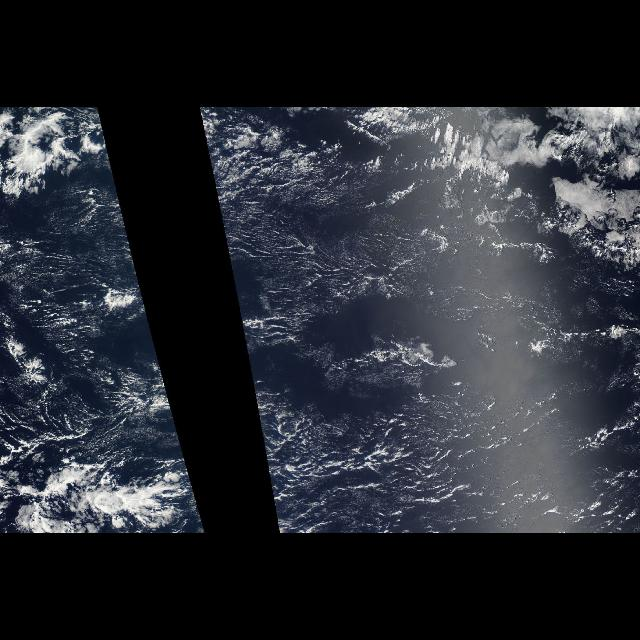Sugar: (222, 198, 464, 342)
